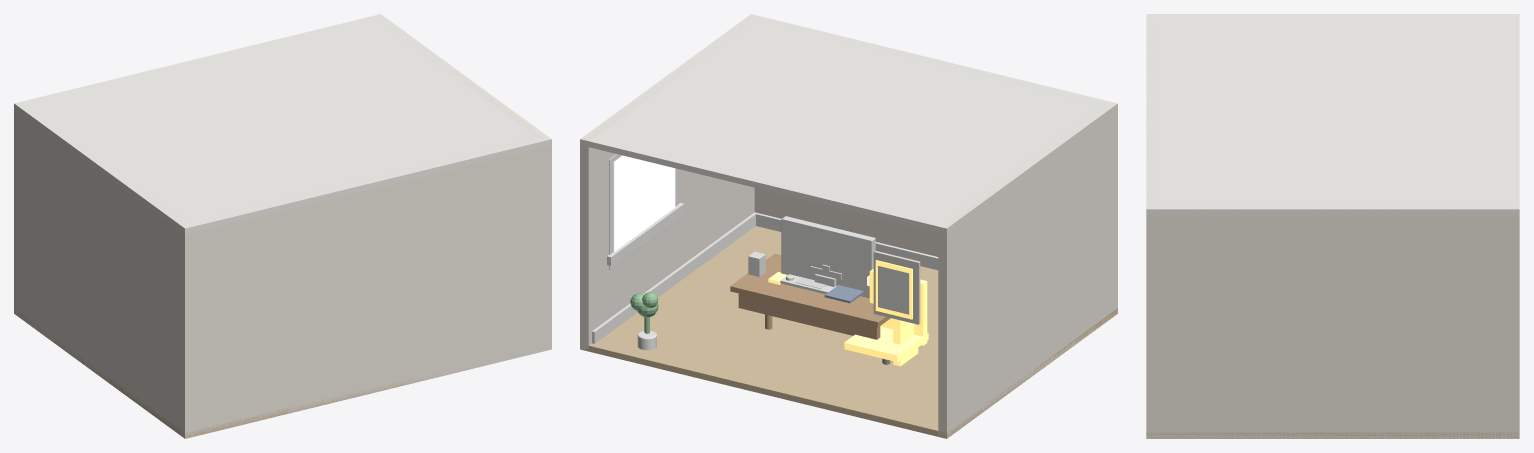
The model's file is sunny-room.glb.
3 views of the same model, side by side, from view 1: azimuth 30°, elevation 25°; view 2: azimuth 150°, elevation 25°; view 3: azimuth 270°, elevation 25° (orthographic). The views are drawn at different scales.
Parts seen in each view (by area): view 1: WallBack, Ceiling, WallLeft, Floor, CrownBack, CrownRight, WallRight; view 2: Ceiling, WallLeft, Floor, WallRight, Monitor, WallBack, WindowGlass, DeskTop, BaseboardRight, DeskApronFront, ChairSeat, FrameMat (+10 smaller); view 3: WallRight, Ceiling, WallBack, Floor, CrownRight, CrownBack.
Part boxes in pixels (<box>): WallBack: <box>180,139,551,438</box>; Ceiling: <box>14,14,551,234</box>; WallLeft: <box>14,103,193,438</box>; Floor: <box>14,308,472,438</box>; CrownBack: <box>185,136,541,222</box>; CrownRight: <box>373,18,540,139</box>; WallRight: <box>376,15,551,187</box>; Ceiling: <box>580,14,1116,234</box>; WallLeft: <box>938,102,1117,438</box>; Floor: <box>581,226,1117,438</box>; WallRight: <box>580,15,758,349</box>; Monitor: <box>781,216,875,298</box>; WallBack: <box>748,14,1117,307</box>; WindowGlass: <box>613,155,675,251</box>; DeskTop: <box>730,253,890,327</box>; BaseboardRight: <box>592,213,755,343</box>; DeskApronFront: <box>738,293,880,339</box>; ChairSeat: <box>844,326,928,362</box>; FrameMat: <box>878,265,909,314</box>; WallRight: <box>1146,205,1519,438</box>; Ceiling: <box>1146,14,1519,215</box>; WallBack: <box>1146,15,1156,438</box>; Floor: <box>1146,432,1519,438</box>; CrownRight: <box>1153,203,1512,206</box>; CrownBack: <box>1153,26,1160,205</box>.
Bounding box in the file's own units: 5.2 × 2.85 × 4.2.
